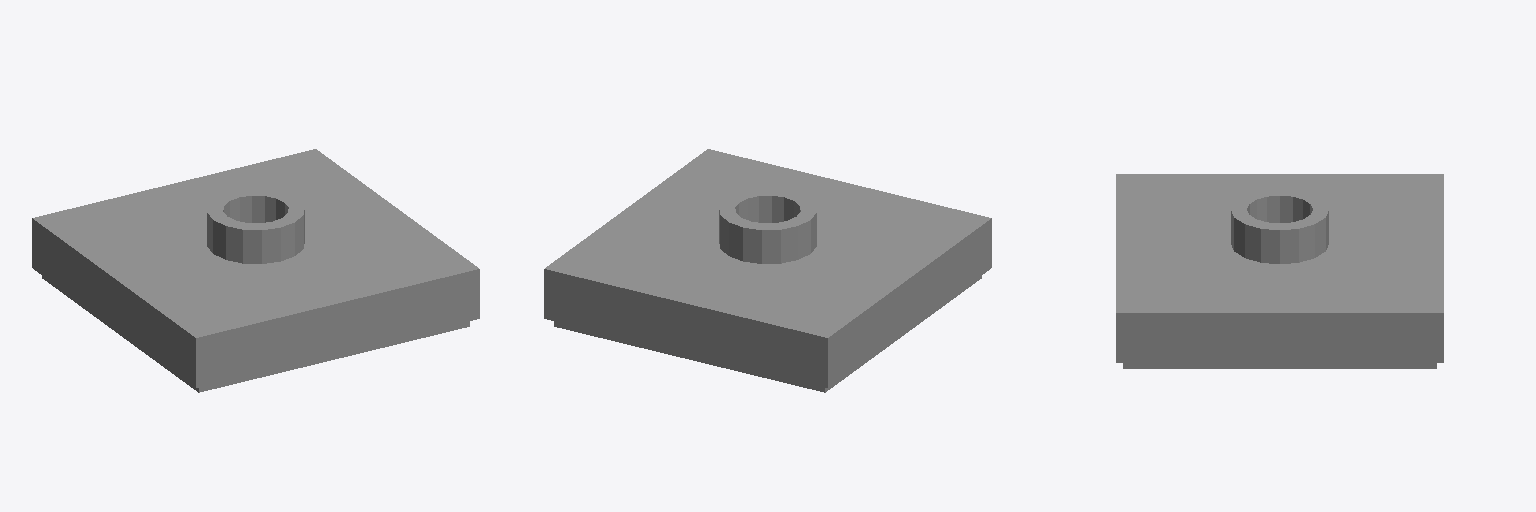
The model's file is Tile.obj.
3 views of the same model, side by side, from view 1: azimuth 30°, elevation 25°; view 2: azimuth 150°, elevation 25°; view 3: azimuth 270°, elevation 25° (orthographic).
Parts seen in each view (by area): view 1: Part.000; view 2: Part.000; view 3: Part.000.
Part boxes in pixels (bbox=[...]): Part.000: bbox=[32, 149, 479, 392]; Part.000: bbox=[544, 149, 991, 392]; Part.000: bbox=[1116, 174, 1443, 368].
Size of the model in its own units: 15.92 by 4.98 by 15.92.